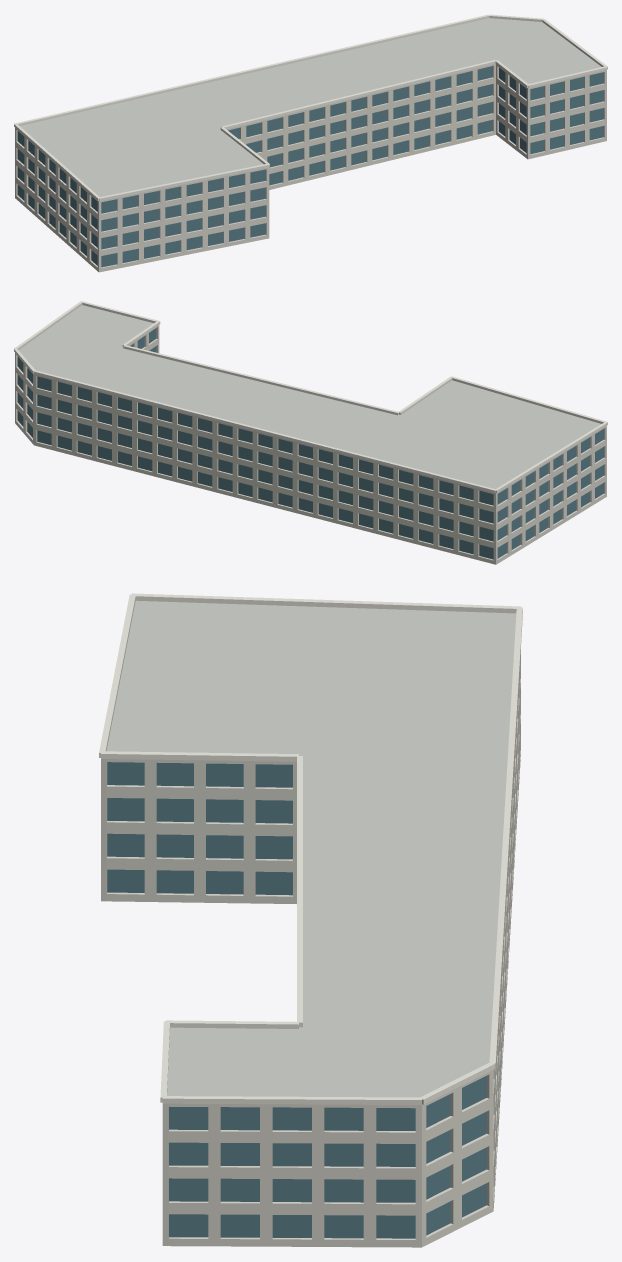
The model's file is sb_1556523908.far.glb.
The picture shows the model from 3 angles, top to bottom: view 1: azimuth 30°, elevation 25°; view 2: azimuth 150°, elevation 25°; view 3: azimuth 270°, elevation 25°; orthographic projection. The views are drawn at different scales.
Parts seen in each view (by area): view 1: roof, wall, glass, trim; view 2: roof, wall, glass, trim; view 3: roof, wall, glass, trim.
Part boxes in pixels (x1=…): roof: x1=20, y1=18, x2=601, y2=196; wall: x1=15, y1=64, x2=606, y2=272; glass: x1=17, y1=66, x2=603, y2=267; trim: x1=14, y1=14, x2=607, y2=201; roof: x1=18, y1=305, x2=600, y2=488; wall: x1=15, y1=325, x2=606, y2=564; glass: x1=17, y1=328, x2=603, y2=559; trim: x1=14, y1=301, x2=607, y2=493; roof: x1=106, y1=600, x2=516, y2=1097; wall: x1=101, y1=649, x2=520, y2=1247; glass: x1=107, y1=762, x2=486, y2=1238; trim: x1=99, y1=593, x2=522, y2=1104.
Size of the model in its own units: 95.54 by 13.04 by 33.79.
